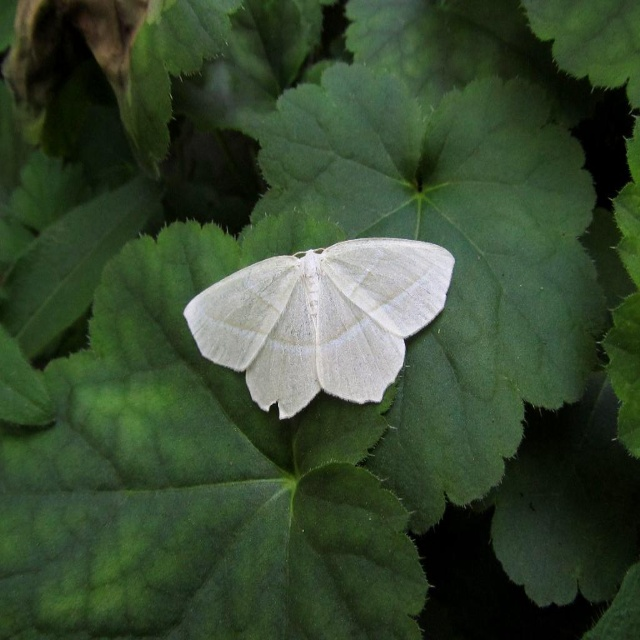Butterfly: (183, 236, 455, 419)
